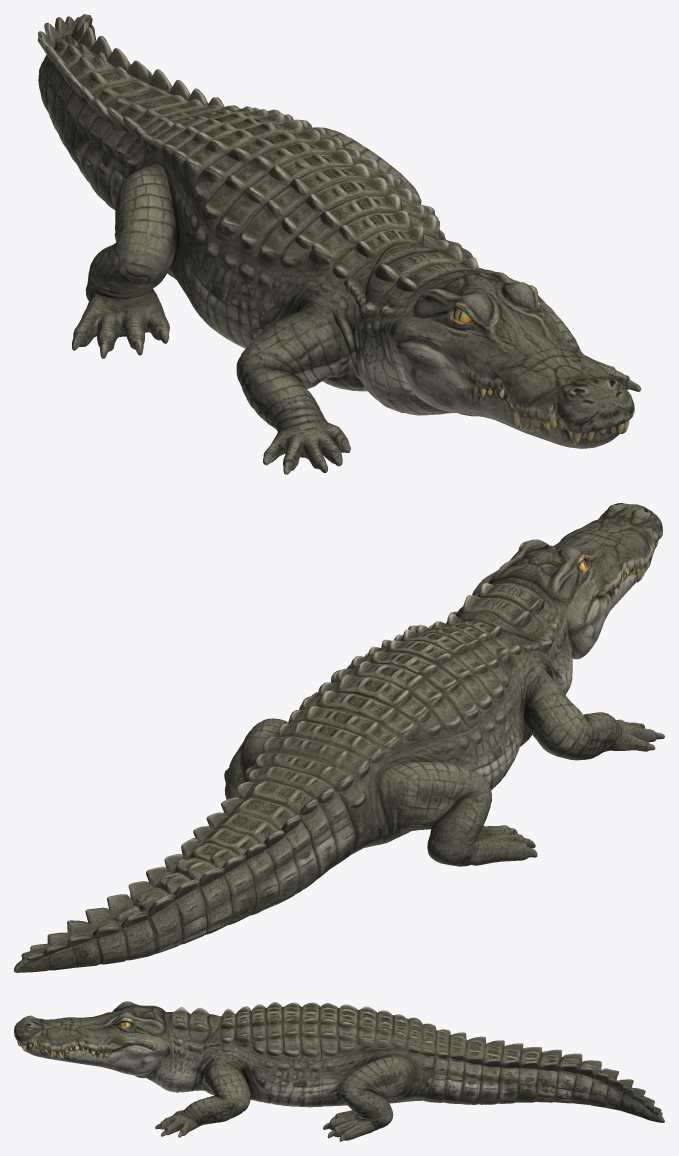
Rendered from gator.glb.
3 views of the same model, one above another, from view 1: azimuth 30°, elevation 25°; view 2: azimuth 150°, elevation 25°; view 3: azimuth 270°, elevation 25° (orthographic). The views are drawn at different scales.
Size of the model in its own units: 0.663 by 0.2857 by 1.9.
1 material, 1 textured.
